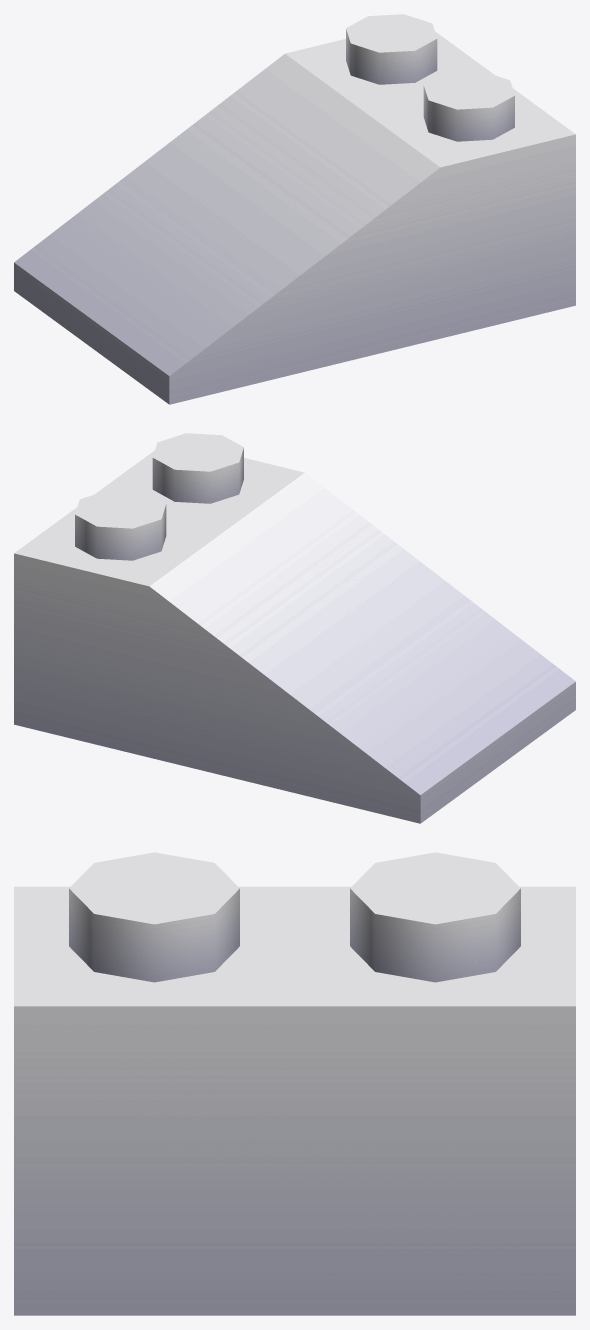
File: round-lq-brick-slope-3x2.glb
3 renders of one model, top to bottom at view 1: azimuth 30°, elevation 25°; view 2: azimuth 150°, elevation 25°; view 3: azimuth 270°, elevation 25°, orthographic. The views are drawn at different scales.
Visible parts, largest first — view 1: round-lq-brick-slope-3x2; view 2: round-lq-brick-slope-3x2; view 3: round-lq-brick-slope-3x2.
Boxes of the visible parts, x1,y1,x2,y2 form: round-lq-brick-slope-3x2: [14, 14, 575, 404]; round-lq-brick-slope-3x2: [14, 433, 575, 823]; round-lq-brick-slope-3x2: [14, 852, 575, 1315].
Bounding box in the file's own units: 1.19 × 0.57 × 0.79.
Materials: 1 (1 with a texture image).
